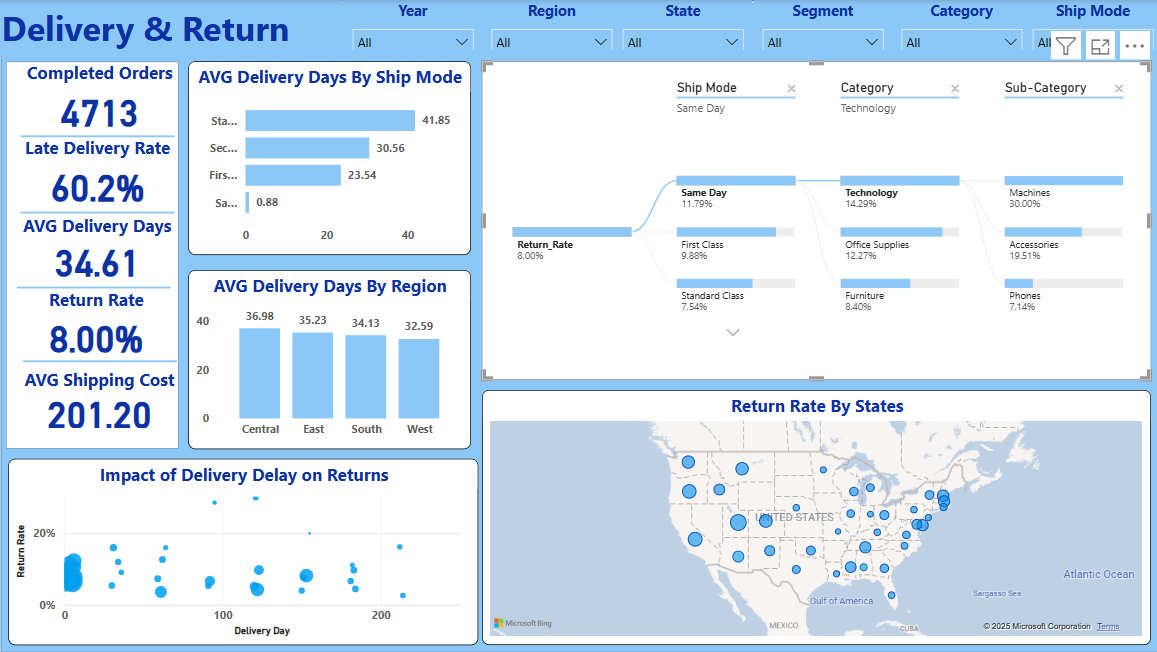

What the dashboard file says about the page in this screenshot:
{"tool":"powerbi","page":{"name":"Delevery & Return","canvas":[1280,720],"ordinal":1},"visuals":[{"type":"shape","box":[0,0,1280.3,720.4],"z":0},{"type":"textbox","box":[0,0,380.1,60.4],"z":1000},{"type":"slicer","title":"Year","fields":{"Values":["Retail Order.Year"]},"box":[380,0,152.9,54.3],"z":2000},{"type":"slicer","title":"Region","fields":{"Values":["Retail Order.Region"]},"box":[532.9,0,152.9,54.3],"z":3000},{"type":"slicer","title":"State","fields":{"Values":["Retail Order.State"]},"box":[677.1,0,152.9,54.3],"z":4000},{"type":"slicer","title":"Segment","fields":{"Values":["Retail Order.Segment"]},"box":[830,0,152.9,54.3],"z":5000},{"type":"slicer","title":"Category","fields":{"Values":["Retail Order.Category"]},"box":[982.9,0,152.9,54.3],"z":6000},{"type":"slicer","title":"Ship Mode","fields":{"Values":["Retail Order.Ship Mode"]},"box":[1127.1,0,152.9,54.3],"z":7000},{"type":"shape","box":[10,67.1,190,425.7],"z":8000},{"type":"card","title":"Completed Orders","fields":{"Values":["Measure.Confirmed"]},"box":[22.9,67.1,178.6,82.9],"z":9000},{"type":"card","title":"Late Delivery Rate","fields":{"Values":["Measure.Late rate"]},"box":[24.3,150,171.4,82.9],"z":10000},{"type":"card","title":"AVG Delivery Days","fields":{"Values":["Avg(Retail Order.Days)"]},"box":[18.6,234.3,181.4,77.1],"z":11000},{"type":"card","title":"Return Rate","fields":{"Values":["Measure.return rate"]},"box":[4.3,315.7,210,81.4],"z":12000},{"type":"card","title":"AVG Shipping Cost","fields":{"Values":["Avg(Retail Order.Cost)"]},"box":[12.9,402.9,200,71.4],"z":13000},{"type":"shape","box":[25.7,114.3,168.6,71.4],"z":14000},{"type":"columnChart","title":"AVG Delivery Days By Region","fields":{"Category":["Retail Order.Region"],"Y":["Avg(Retail Order.Days)"]},"box":[210,295.7,310,197.1],"z":15000},{"type":"map","title":"Return Rate By States","fields":{"Y":["Retail Order.latitude"],"X":["Retail Order.longitude"],"Series":["Retail Order.State"],"Size":["Measure.Return_Rate"]},"box":[532.4,428.1,734.1,279.9],"z":16000},{"type":"clusteredBarChart","title":"AVG Delivery Days By Ship Mode","fields":{"Category":["Retail Order.Ship Mode"],"Y":["Avg(Retail Order.Days)"]},"box":[210,67.1,310,212.9],"z":17000},{"type":"decompositionTreeVisual","fields":{"Analyze":["Measure.Return_Rate"],"ExplainBy":["Retail Order.Ship Mode","Retail Order.Category","Retail Order.Sub-Category"]},"box":[532.4,67.2,734.1,349.9],"z":18000},{"type":"shape","box":[25.7,197.1,168.6,71.4],"z":19000},{"type":"shape","box":[21.4,280,168.6,71.4],"z":20000},{"type":"shape","box":[28.6,361.4,168.6,71.4],"z":21000},{"type":"scatterChart","title":"Impact of Delivery Delay on Returns","fields":{"Y":["Measure.Return_Rate"],"Size":["Count(Retail Order.Order ID)"],"X":["Retail Order.Days"]},"box":[12.3,503.6,516,204.5],"z":22000}]}

Visuals, with their boxes on the page's 1280x720 design canvas (x1, y1, x2, y2). These are canvas units, not pixel positions in the 1157x652 screenshot, which may show the page scaled, cropped or inside an application window:
shape: bbox=(0, 0, 1280, 720)
textbox: bbox=(0, 0, 380, 60)
"Year" slicer: bbox=(380, 0, 533, 54)
"Region" slicer: bbox=(533, 0, 686, 54)
"State" slicer: bbox=(677, 0, 830, 54)
"Segment" slicer: bbox=(830, 0, 983, 54)
"Category" slicer: bbox=(983, 0, 1136, 54)
"Ship Mode" slicer: bbox=(1127, 0, 1280, 54)
shape: bbox=(10, 67, 200, 493)
"Completed Orders" card: bbox=(23, 67, 202, 150)
"Late Delivery Rate" card: bbox=(24, 150, 196, 233)
"AVG Delivery Days" card: bbox=(19, 234, 200, 311)
"Return Rate" card: bbox=(4, 316, 214, 397)
"AVG Shipping Cost" card: bbox=(13, 403, 213, 474)
shape: bbox=(26, 114, 194, 186)
"AVG Delivery Days By Region" columnChart: bbox=(210, 296, 520, 493)
"Return Rate By States" map: bbox=(532, 428, 1266, 708)
"AVG Delivery Days By Ship Mode" clusteredBarChart: bbox=(210, 67, 520, 280)
decompositionTreeVisual - Measure.Return_Rate x Retail Order.Ship Mode: bbox=(532, 67, 1266, 417)
shape: bbox=(26, 197, 194, 268)
shape: bbox=(21, 280, 190, 351)
shape: bbox=(29, 361, 197, 433)
"Impact of Delivery Delay on Returns" scatterChart: bbox=(12, 504, 528, 708)
